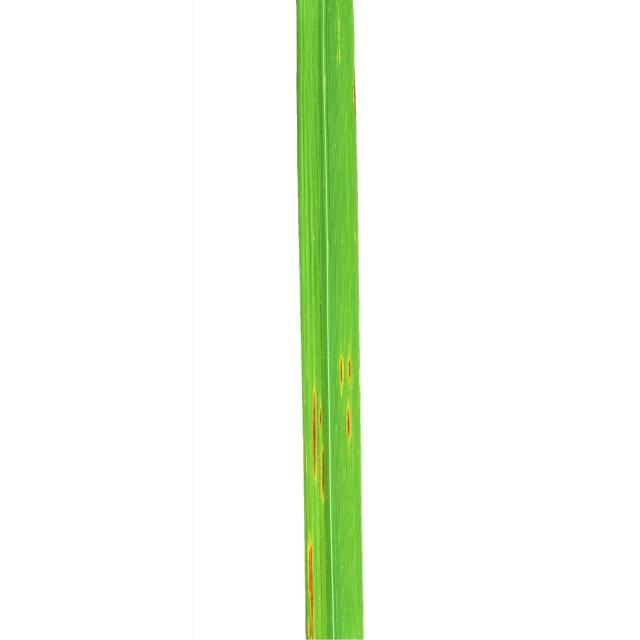Narrow brown: (258, 0, 518, 640)
